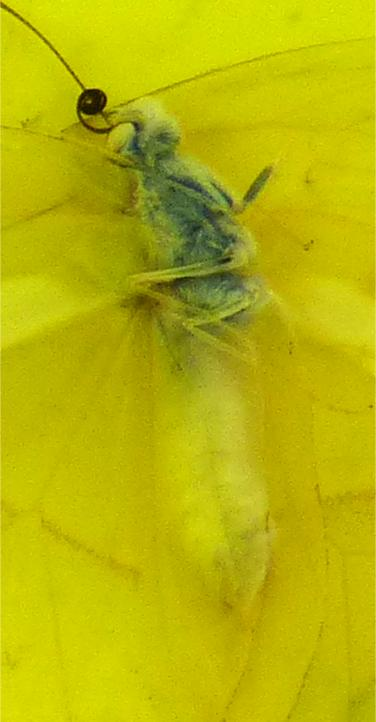Lepidoptera: (100, 100, 276, 622)
